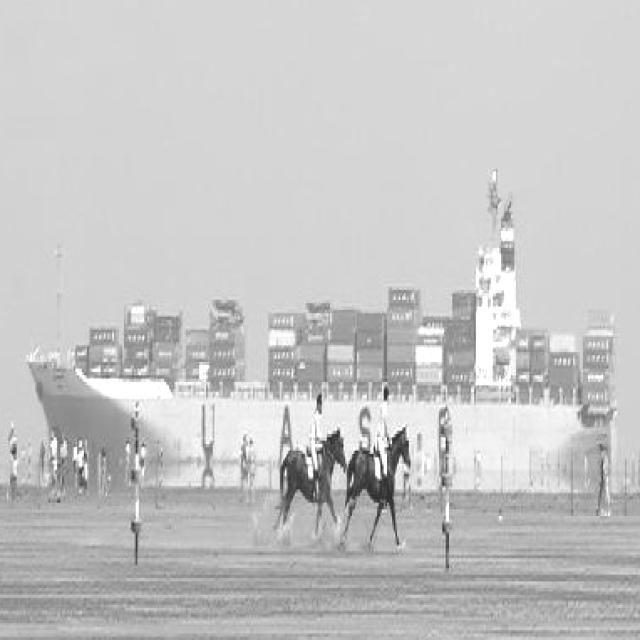ship: (28, 189, 620, 500)
